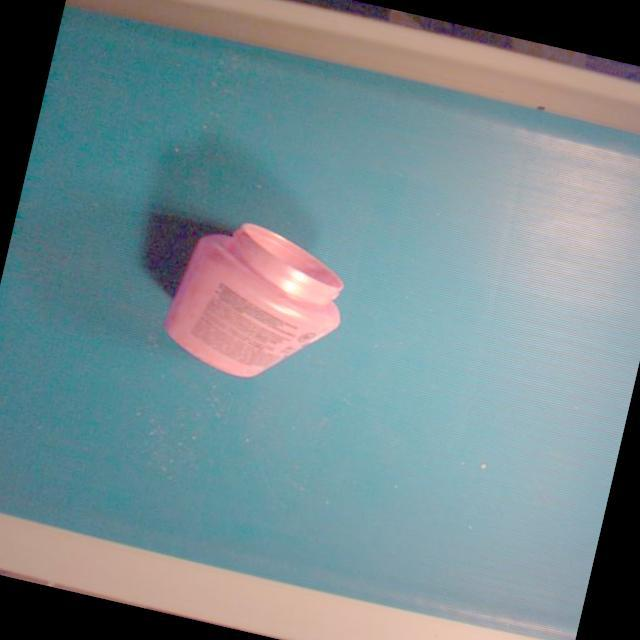HDPE Plastic: (157, 219, 348, 384)
